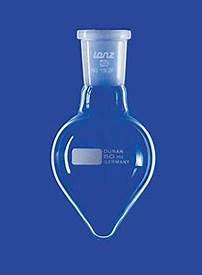Pear shaped flask: (47, 21, 154, 242)
